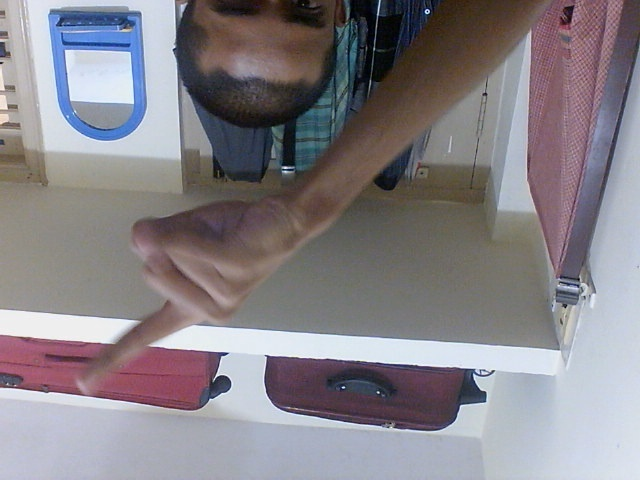hand: (75, 189, 315, 402)
